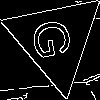G: (30, 15, 81, 62)
